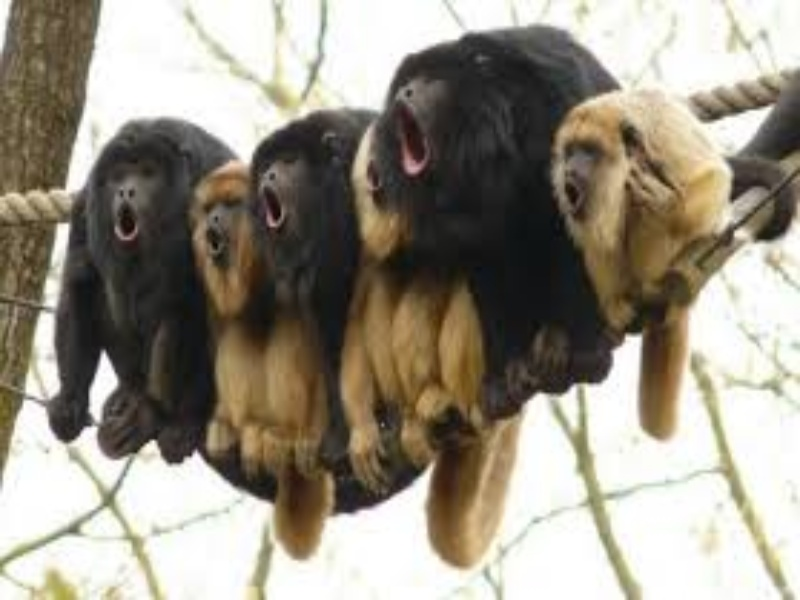monkey: (52, 27, 729, 562)
